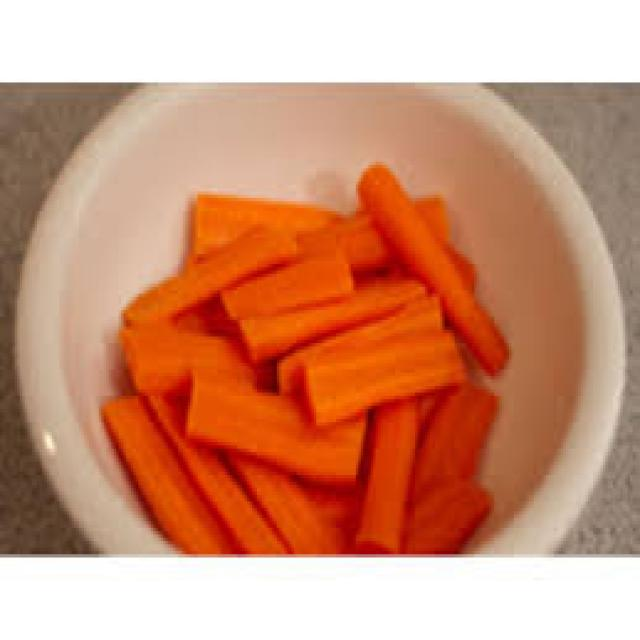Fresh_Carrot: (357, 164, 509, 373), (147, 398, 287, 553), (103, 397, 236, 554), (186, 370, 365, 483), (239, 279, 426, 363), (304, 330, 465, 426), (120, 320, 253, 393), (221, 259, 353, 320)
